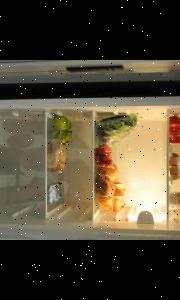Cebolla: (112, 199, 123, 212), (113, 184, 124, 196)
Huevos: (168, 157, 179, 166), (169, 166, 179, 175), (169, 174, 179, 182)
Manzana: (52, 116, 68, 132), (58, 132, 70, 144)
Tomate: (169, 124, 180, 135), (168, 116, 180, 126), (168, 135, 180, 143)
